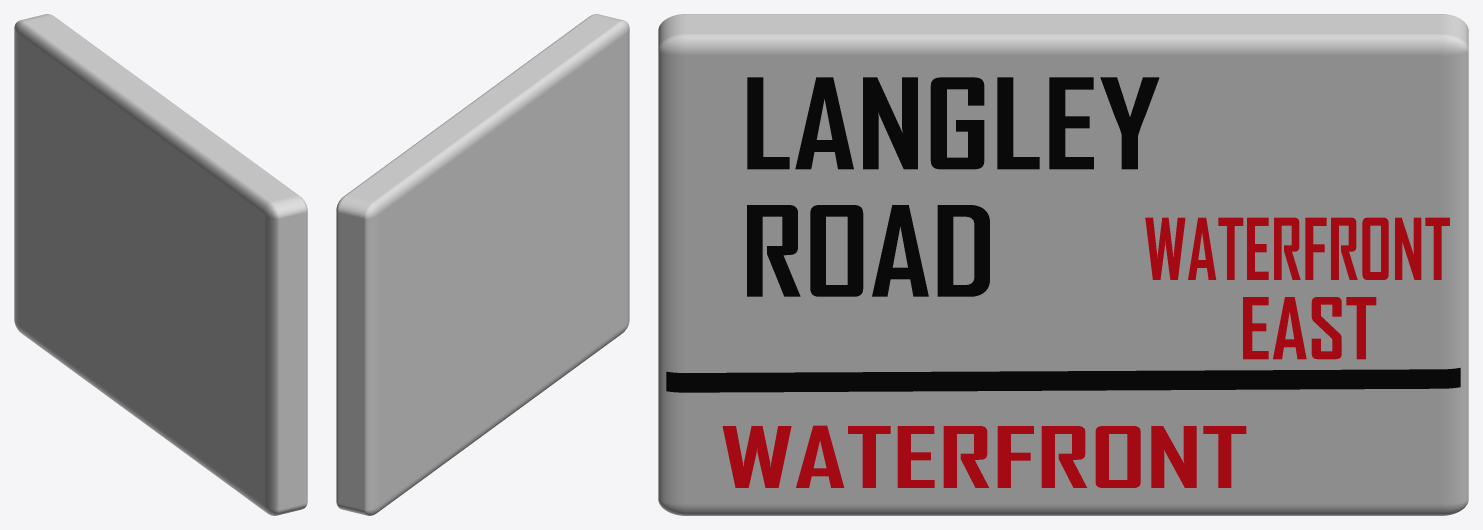
Rendered from uk_styled_street_sign_43.fbx.
The picture shows the model from 3 angles, left to right: view 1: azimuth 30°, elevation 25°; view 2: azimuth 150°, elevation 25°; view 3: azimuth 270°, elevation 25°; orthographic projection. The views are drawn at different scales.
Visible parts, largest first — view 1: Cube; view 2: Cube; view 3: Cube, Text, Text.002, Text.001, Text.003, Text.004.
Part boxes in pixels (x1,y1,x2,y2): Cube: [14, 14, 307, 515]; Cube: [336, 14, 629, 515]; Cube: [658, 14, 1468, 515]; Text: [747, 77, 1159, 169]; Text.002: [722, 425, 1246, 487]; Text.001: [747, 205, 989, 296]; Text.003: [1145, 217, 1449, 279]; Text.004: [1243, 297, 1376, 359].
Size of the model in its own units: 1.63 by 11.91 by 18.18.
